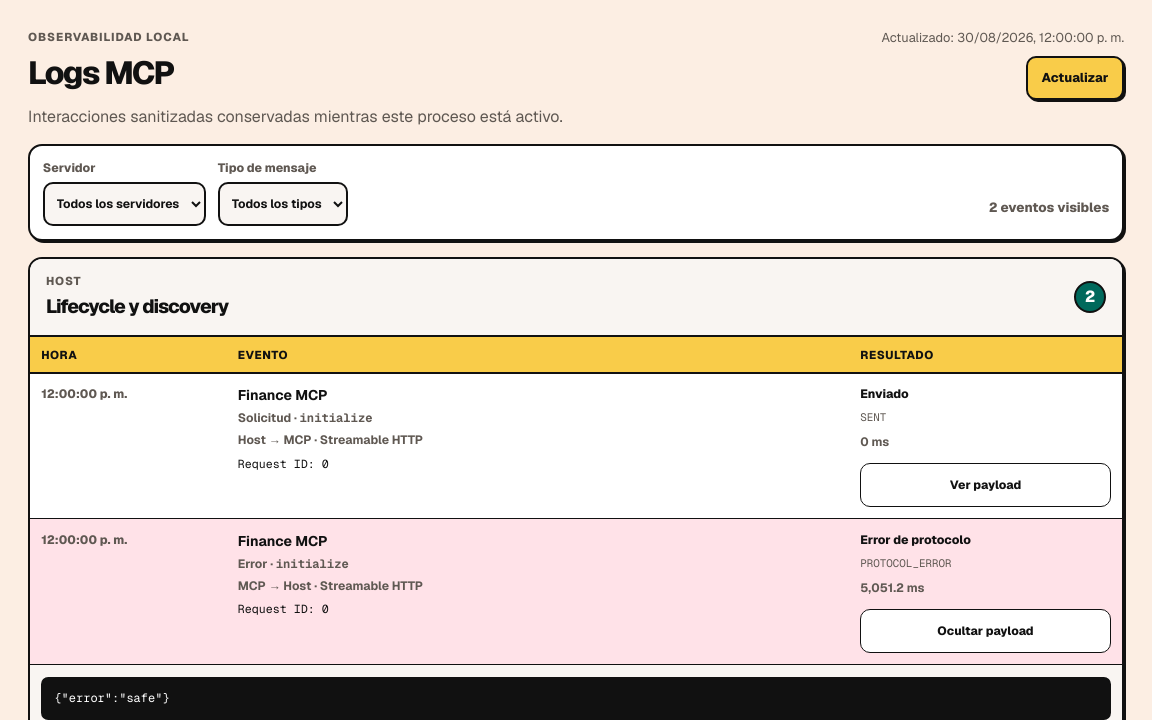
Test: McpLogsPanel › distinguishes filters without matches from an empty log context
Expected: the heading "Lifecycle y discovery" is shown, left=46, top=293, right=228, bottom=322
Select "Git MCP" in the dropdown labelled "Servidor" at (124, 204), box left=43, top=182, right=206, bottom=226
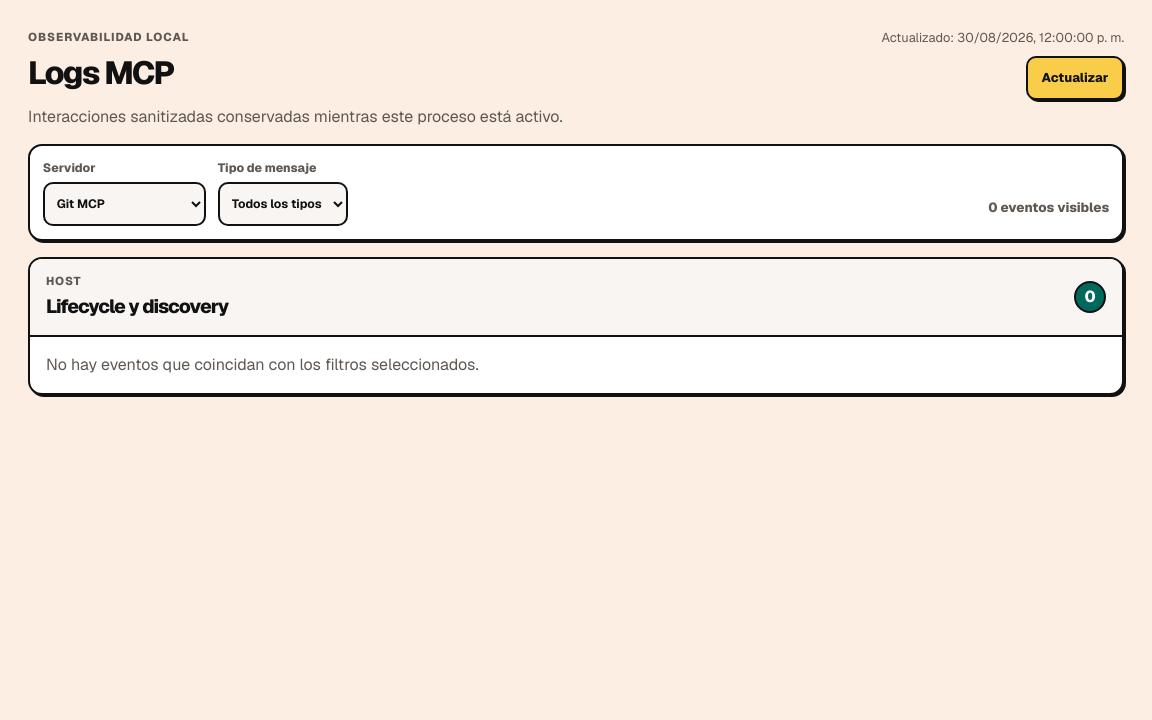
Result: the text "No hay eventos que coincidan con los filtros seleccionados." is shown at left=46, top=354, right=479, bottom=375
